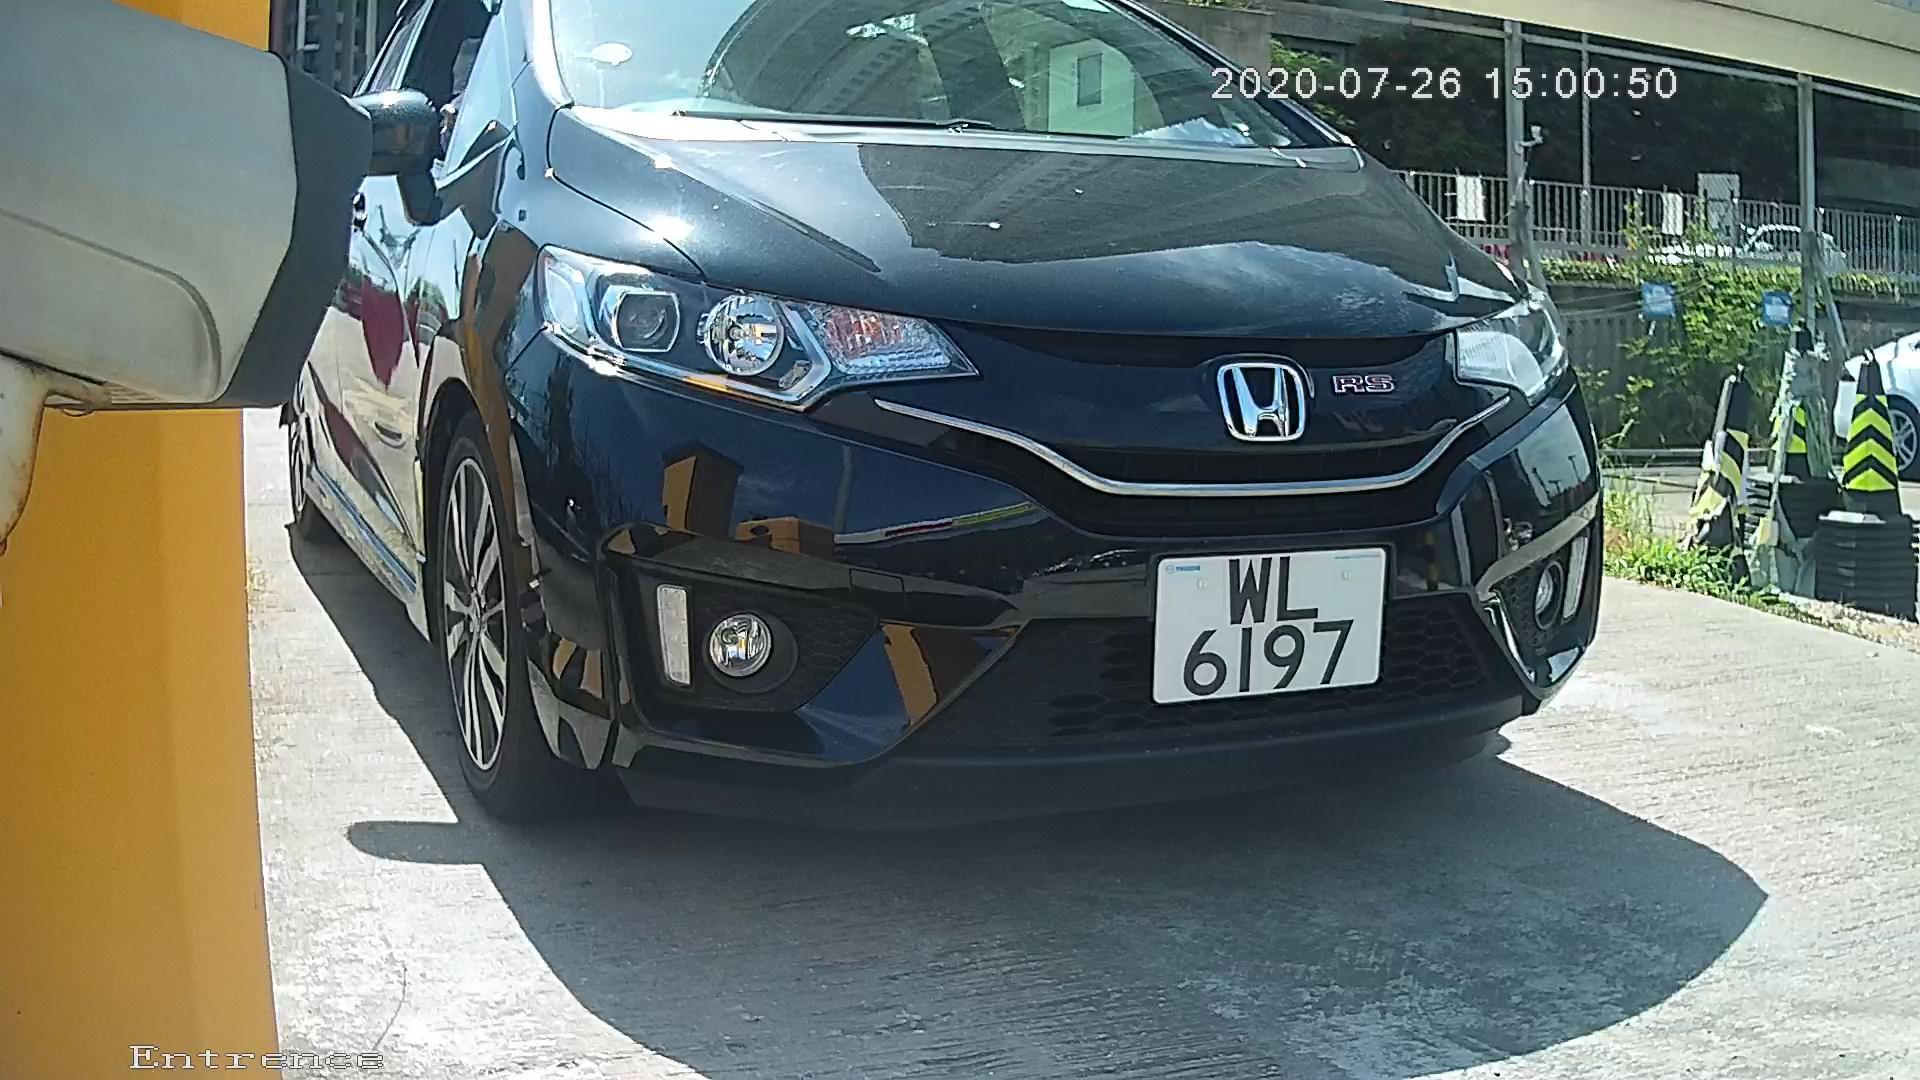privatecar: (198, 44, 1689, 920)
